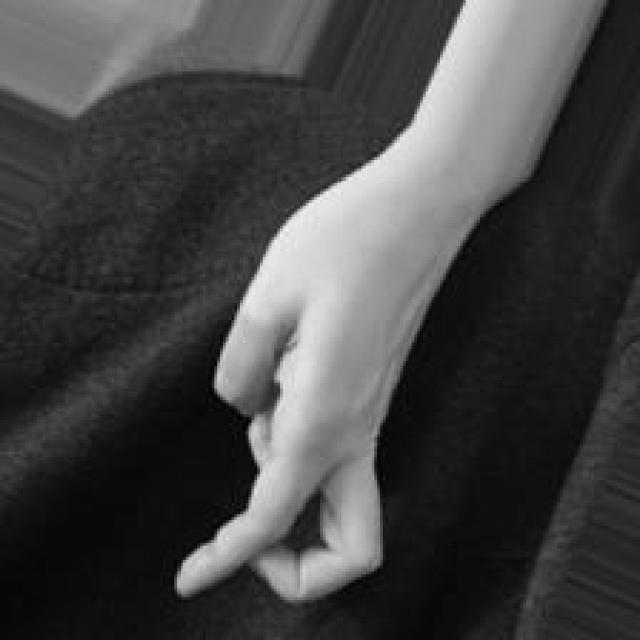P: (170, 178, 464, 612)
